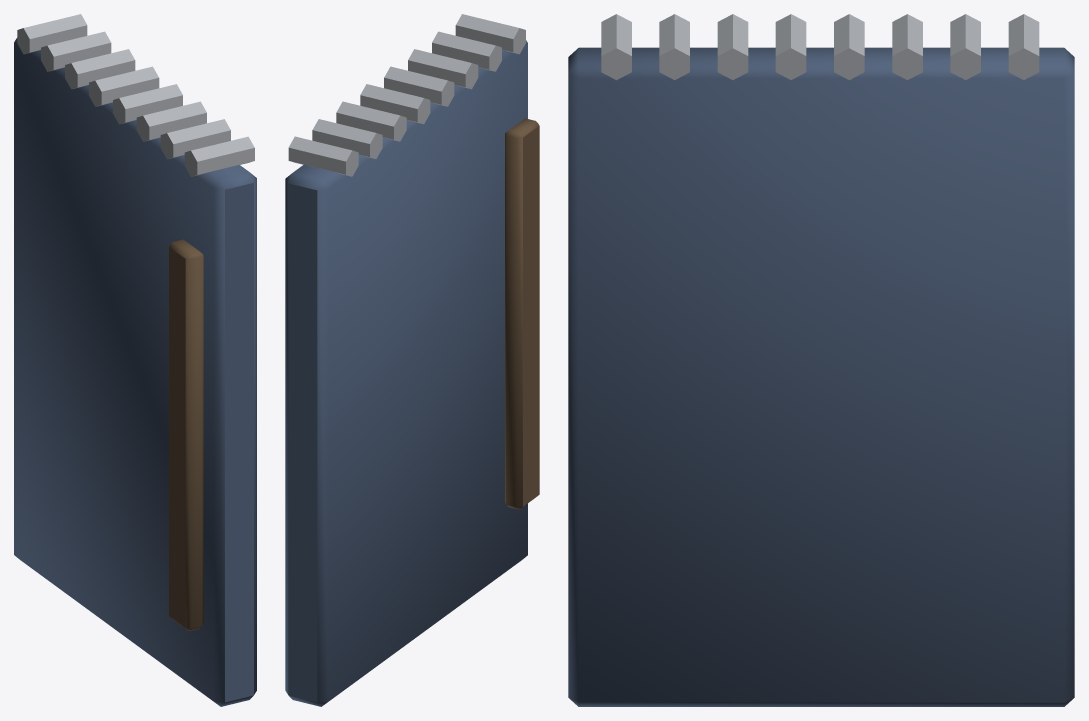
Rendered from item_notebook_hand.glb.
3 renders of one model, left to right at view 1: azimuth 30°, elevation 25°; view 2: azimuth 150°, elevation 25°; view 3: azimuth 270°, elevation 25°, orthographic. The views are drawn at different scales.
Parts seen in each view (by area): view 1: notebook; view 2: notebook; view 3: notebook.
Boxes of the visible parts, left/top/right/bottom form: notebook: left=14, top=14, right=256, bottom=706; notebook: left=285, top=14, right=539, bottom=706; notebook: left=568, top=14, right=1074, bottom=706.
Bounding box in the file's own units: 0.0195 × 0.1455 × 0.1.
